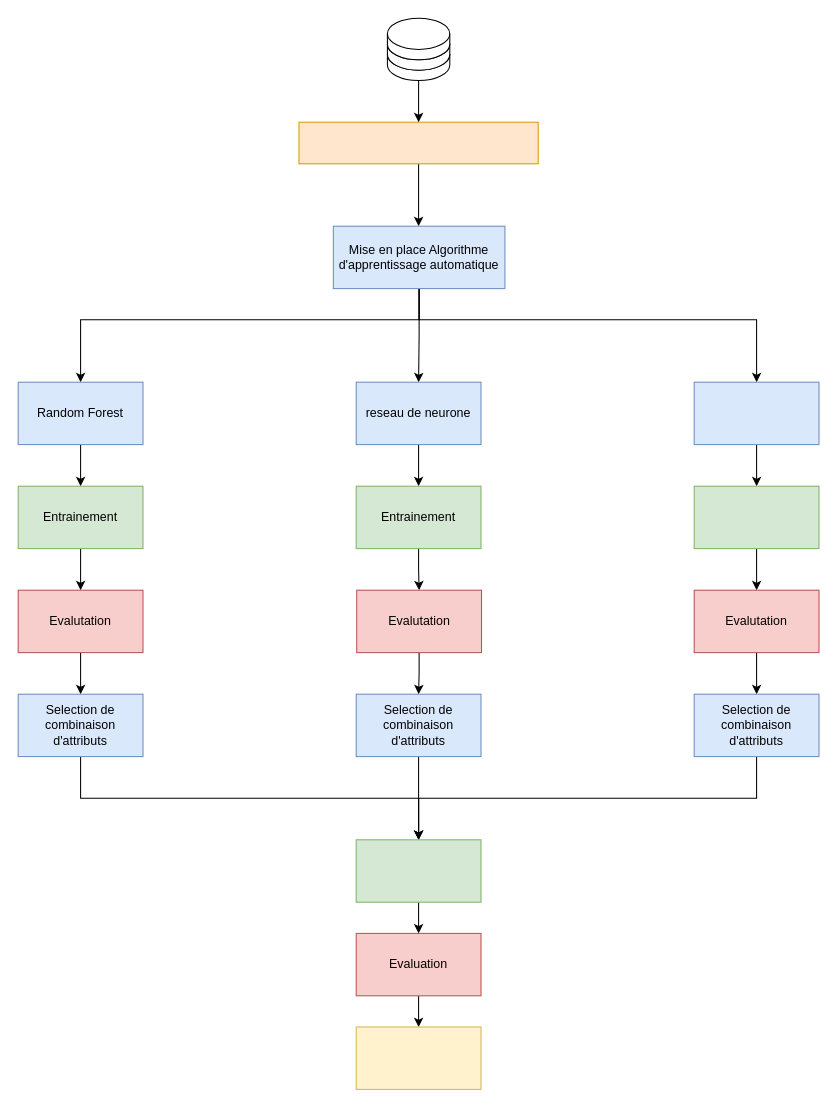
The diagram is 837 pixels wide and 1108 high, and some of its shapes have lost their labels. The centre of each missing label's shape, as x and y in pixels:
Algor patron frequent: the point at 756,413
Analyse et redaction de rapport: the point at 418,1057
pipeline d'aquision de donne: the point at 418,142
Pour chaque combinaison SVM Entrainemnt: the point at 418,870
Recherche patron: the point at 756,517
